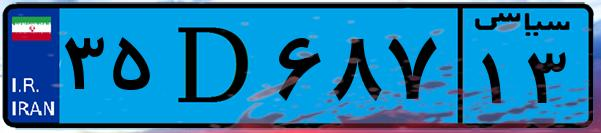1: (475, 38, 525, 113)
3: (57, 26, 110, 100), (525, 38, 570, 115)
5: (110, 28, 158, 98)
6: (270, 28, 330, 110)
7: (385, 28, 445, 110)
8: (330, 28, 385, 110)
D: (158, 12, 270, 120)
